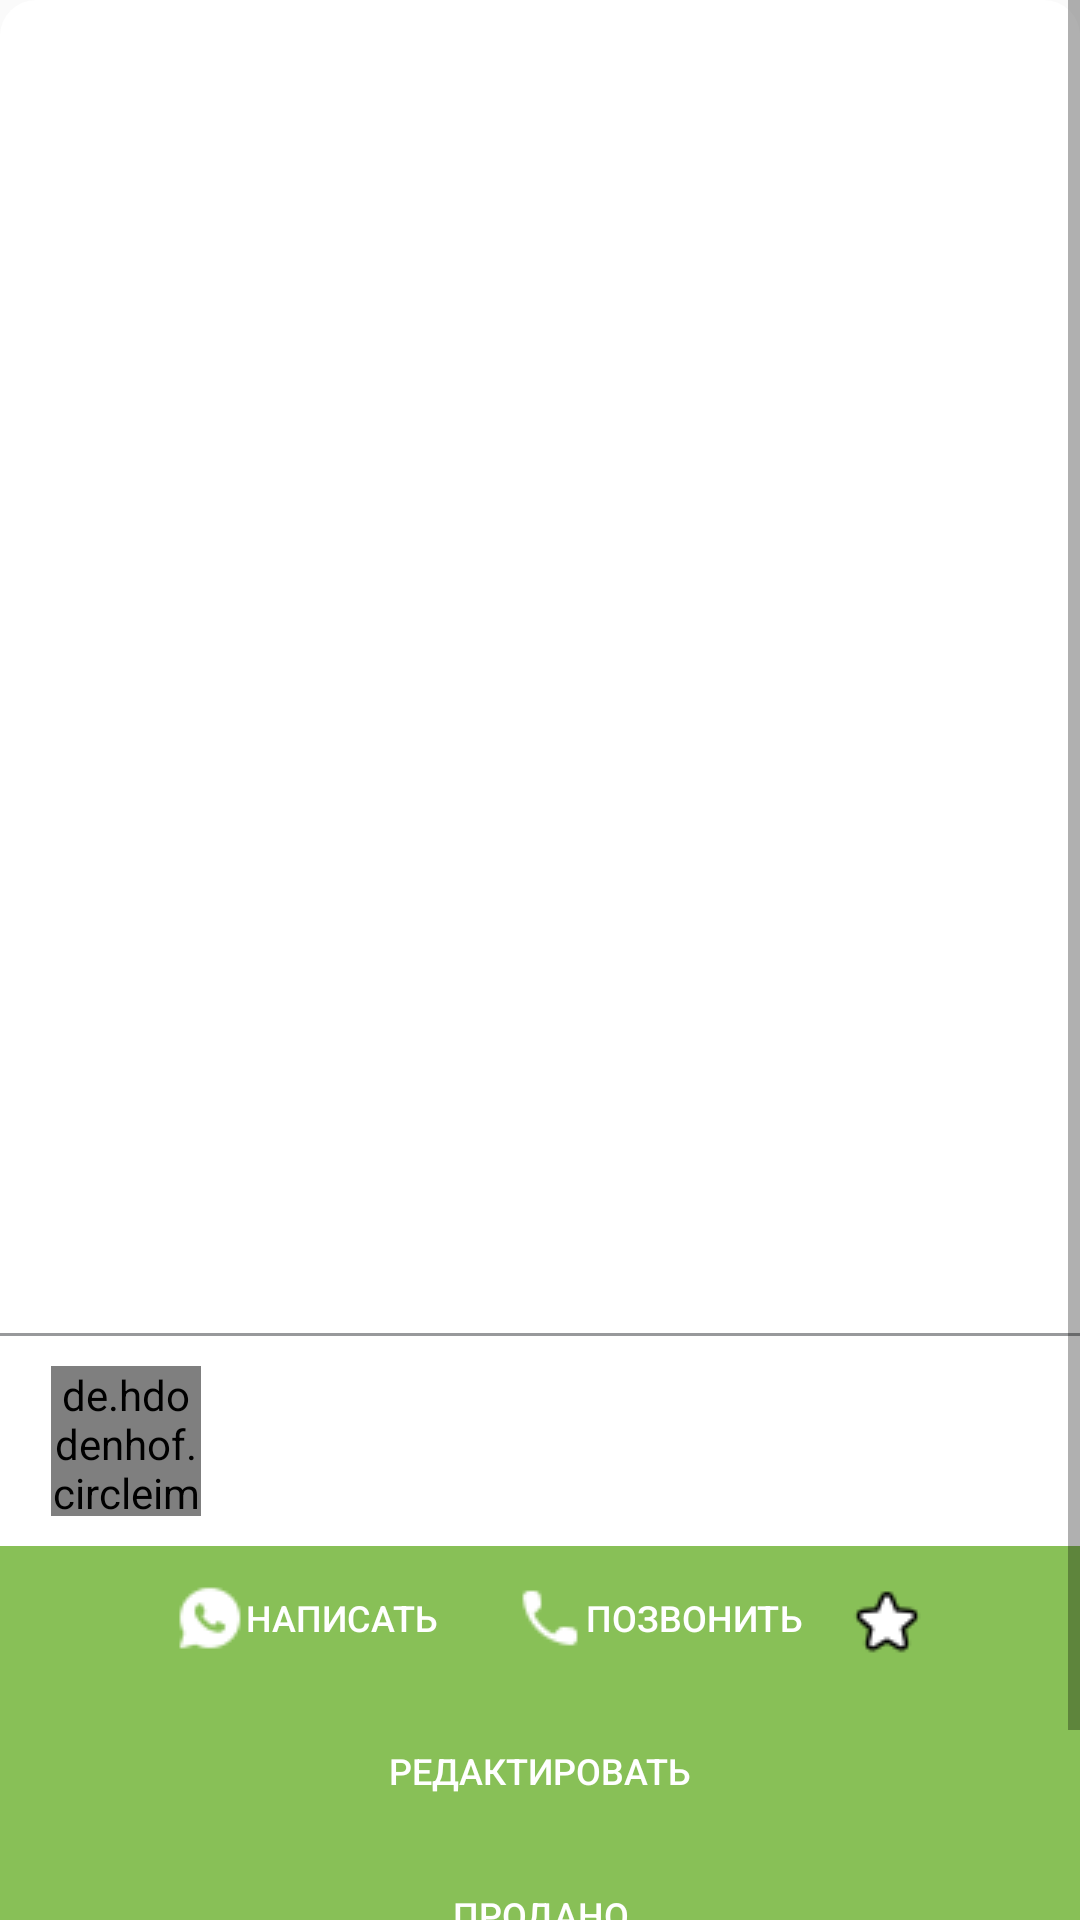

Icons on this 1080 × 1920 Android screen, each with its box as [left=x1, top=y1, right=x2, bottom=y2]:
favorite checkbox: [left=856, top=1591, right=918, bottom=1653]
